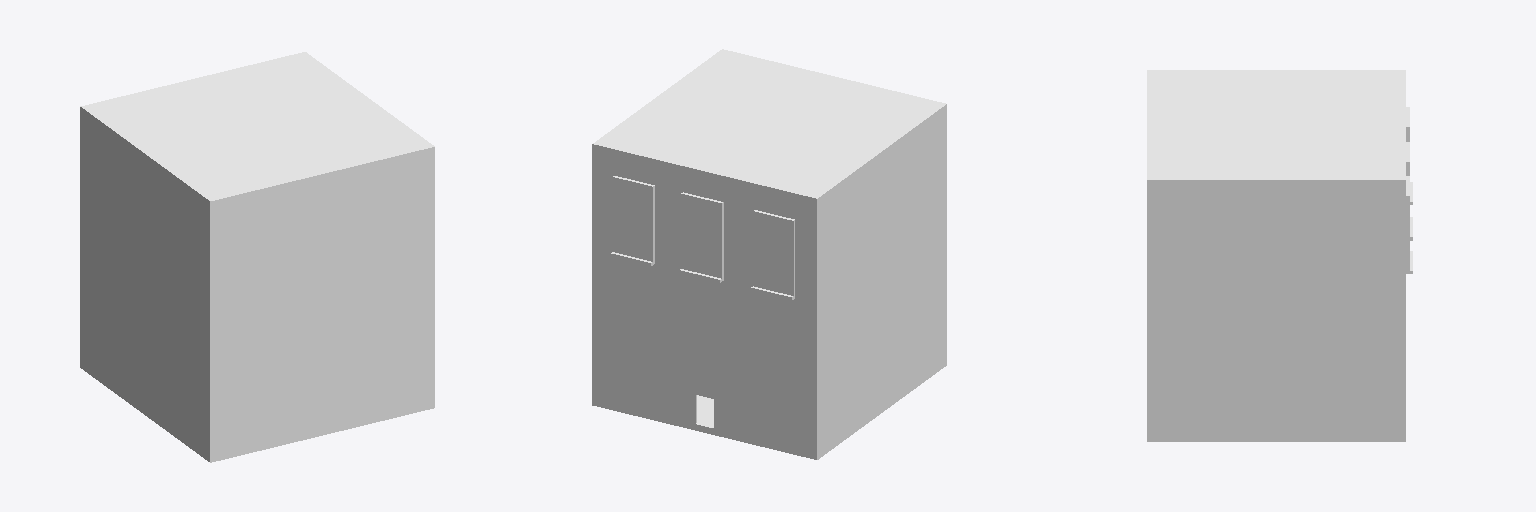
File: ApartmentBottom.obj
The picture shows the model from 3 angles: view 1: azimuth 30°, elevation 25°; view 2: azimuth 150°, elevation 25°; view 3: azimuth 270°, elevation 25°; orthographic projection.
Parts seen in each view (by area): view 1: ApartmentBottom; view 2: ApartmentBottom; view 3: ApartmentBottom.
Boxes of the visible parts, <box> form: ApartmentBottom: <box>80,52,434,462</box>; ApartmentBottom: <box>592,49,946,459</box>; ApartmentBottom: <box>1147,70,1412,441</box>.
Size of the model in its own units: 72 by 80 by 74.